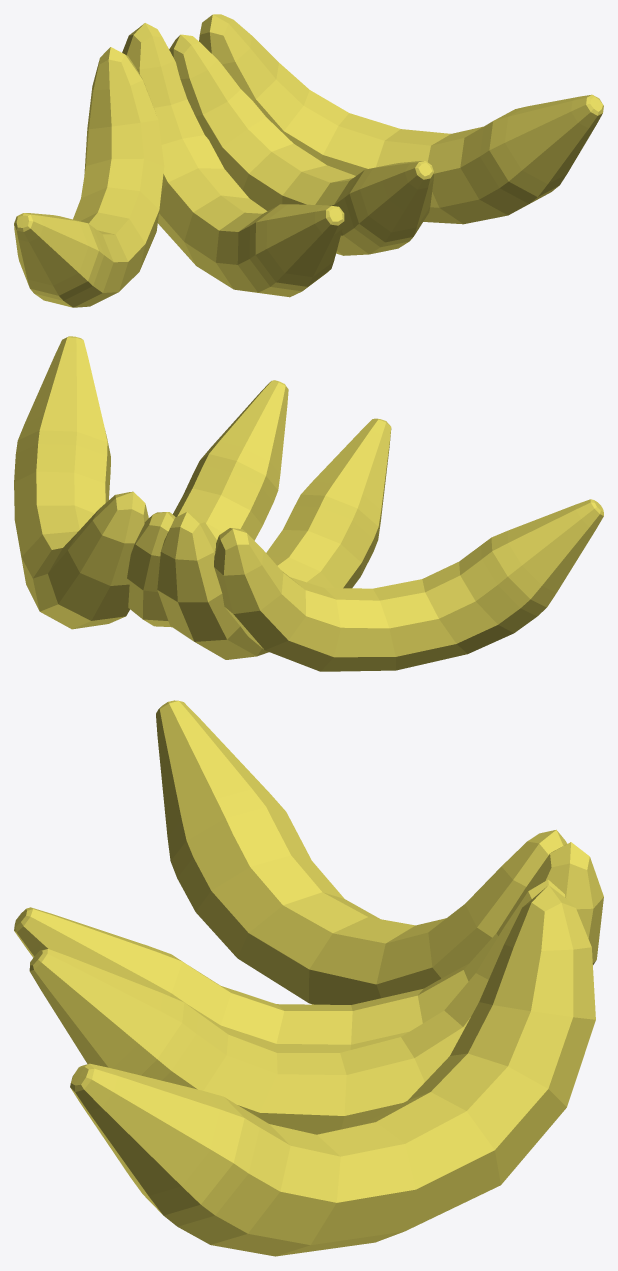
Rendered from Banana.fbx.
3 renders of one model, top to bottom at view 1: azimuth 30°, elevation 25°; view 2: azimuth 150°, elevation 25°; view 3: azimuth 270°, elevation 25°, orthographic. The views are drawn at different scales.
Parts seen in each view (by area): view 1: Cube; view 2: Cube; view 3: Cube.
Boxes of the visible parts, x1,y1,x2,y2 form: Cube: (14,14,603,307); Cube: (14,336,603,671); Cube: (14,700,603,1256).
Bounding box in the file's own units: 551 × 177 × 350.
